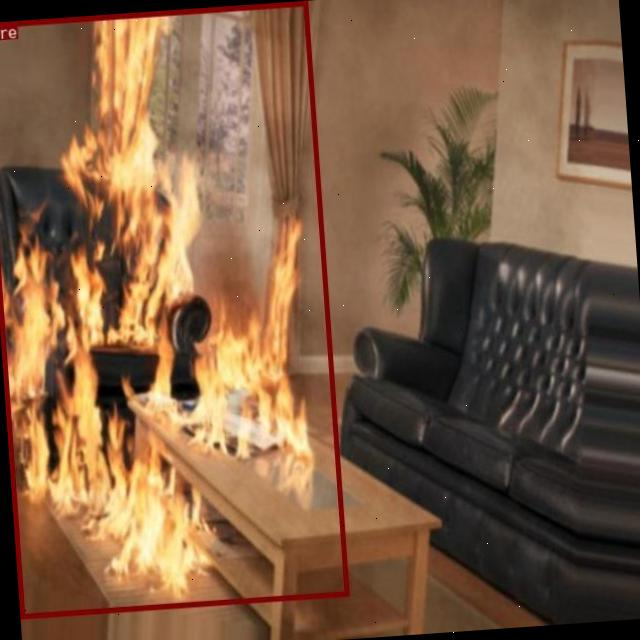fire: (0, 0, 348, 617)
